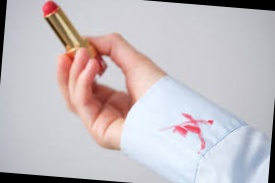lipstick: (169, 110, 217, 149), (152, 118, 203, 142), (174, 120, 203, 139)
